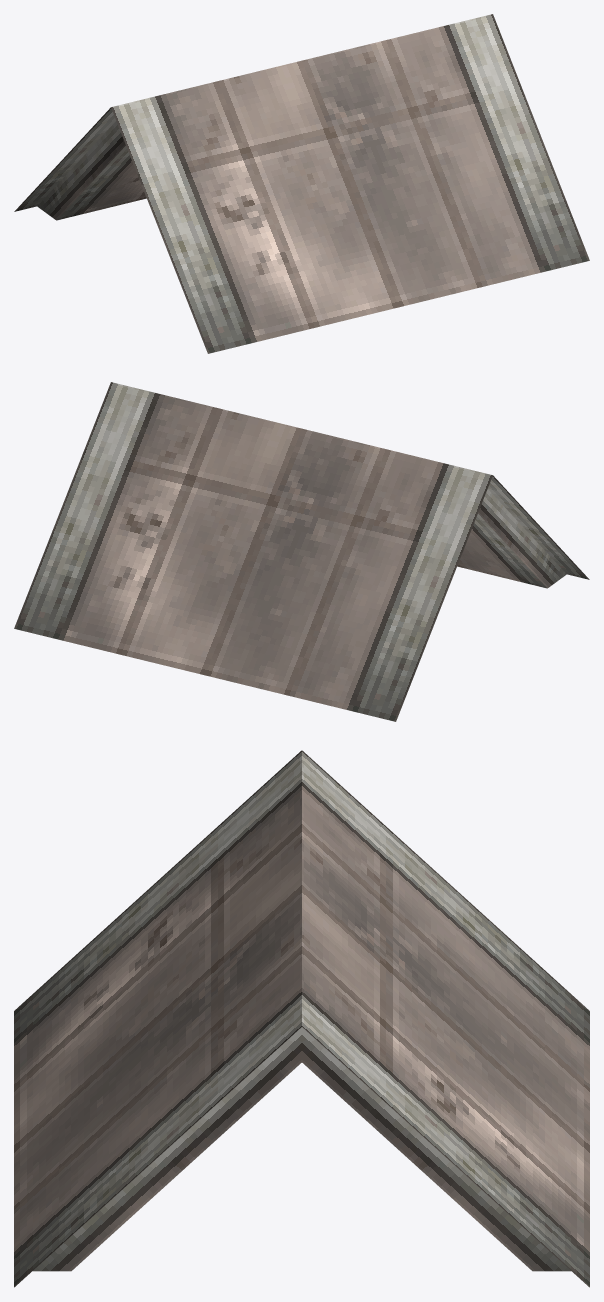
Rendered from roofMetal_typeA.fbx.
The picture shows the model from 3 angles, top to bottom: view 1: azimuth 30°, elevation 25°; view 2: azimuth 150°, elevation 25°; view 3: azimuth 270°, elevation 25°; orthographic projection. The views are drawn at different scales.
Parts seen in each view (by area): view 1: roofMetal_typeA; view 2: roofMetal_typeA; view 3: roofMetal_typeA.
Boxes of the visible parts, x1,y1,x2,y2 form: roofMetal_typeA: (14, 14, 589, 353); roofMetal_typeA: (14, 382, 589, 721); roofMetal_typeA: (14, 750, 589, 1287).
Size of the model in its own units: 11.37 by 5 by 10.
